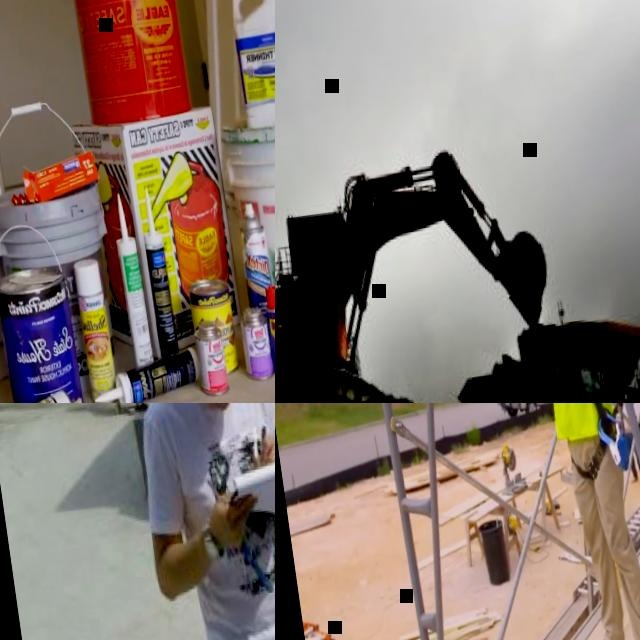NO-Safety Vest: (165, 403, 275, 640)
Person: (112, 403, 275, 640), (511, 403, 640, 640)
Safety Vest: (533, 403, 617, 443)
machinery: (275, 137, 568, 403), (444, 298, 640, 403)
vehicle: (491, 403, 558, 419)
